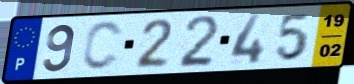2: (178, 15, 222, 70), (135, 17, 175, 70)
4: (228, 12, 269, 67)
5: (273, 12, 314, 63)
9: (42, 23, 76, 73)
C: (79, 19, 126, 73)
